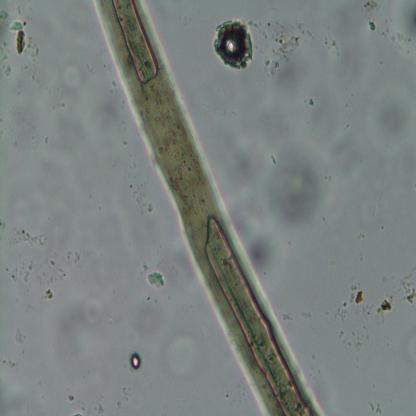Air bubble: (127, 349, 144, 372)
Background material: (260, 140, 344, 230), (0, 222, 82, 291), (214, 117, 262, 215), (64, 301, 117, 373), (255, 15, 308, 76), (360, 0, 416, 54), (324, 25, 366, 87), (117, 160, 156, 219), (374, 99, 416, 153), (322, 294, 362, 350), (6, 102, 48, 153), (214, 20, 256, 71), (166, 329, 198, 392), (45, 107, 86, 155), (244, 227, 280, 278), (97, 103, 131, 157), (376, 275, 416, 316), (0, 9, 30, 55), (61, 58, 86, 105), (116, 384, 134, 413), (139, 310, 159, 336), (144, 268, 165, 291), (348, 284, 366, 307), (6, 327, 26, 347), (0, 353, 23, 370), (38, 283, 56, 304), (298, 87, 316, 108), (91, 396, 109, 416), (0, 54, 14, 77), (365, 398, 383, 414), (64, 388, 77, 406), (283, 309, 296, 321), (72, 411, 84, 416)
Microfibre: (94, 0, 322, 414)
